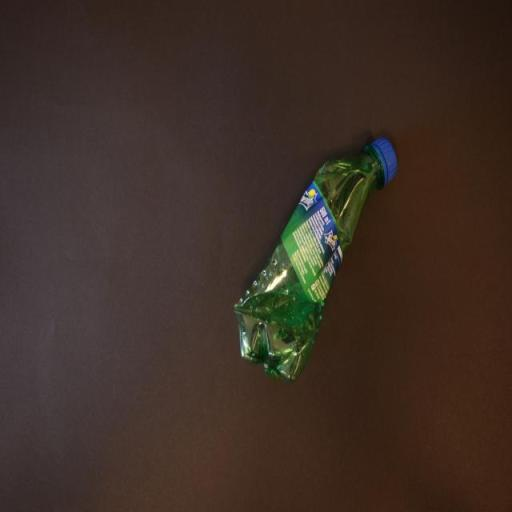plastic: (232, 133, 398, 384)
